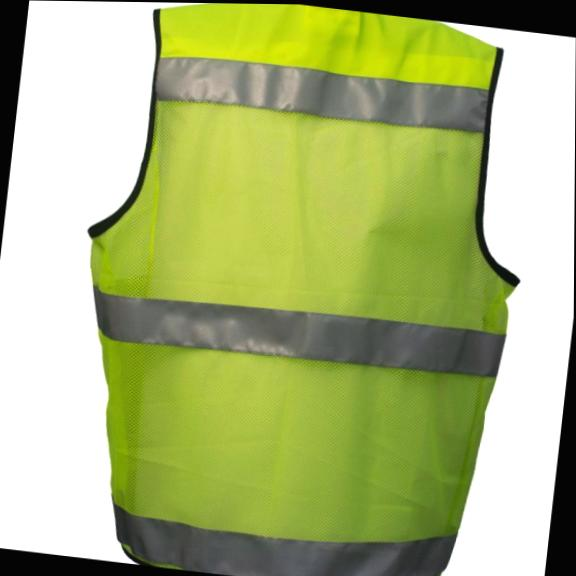safety_vest: (51, 1, 548, 576)
